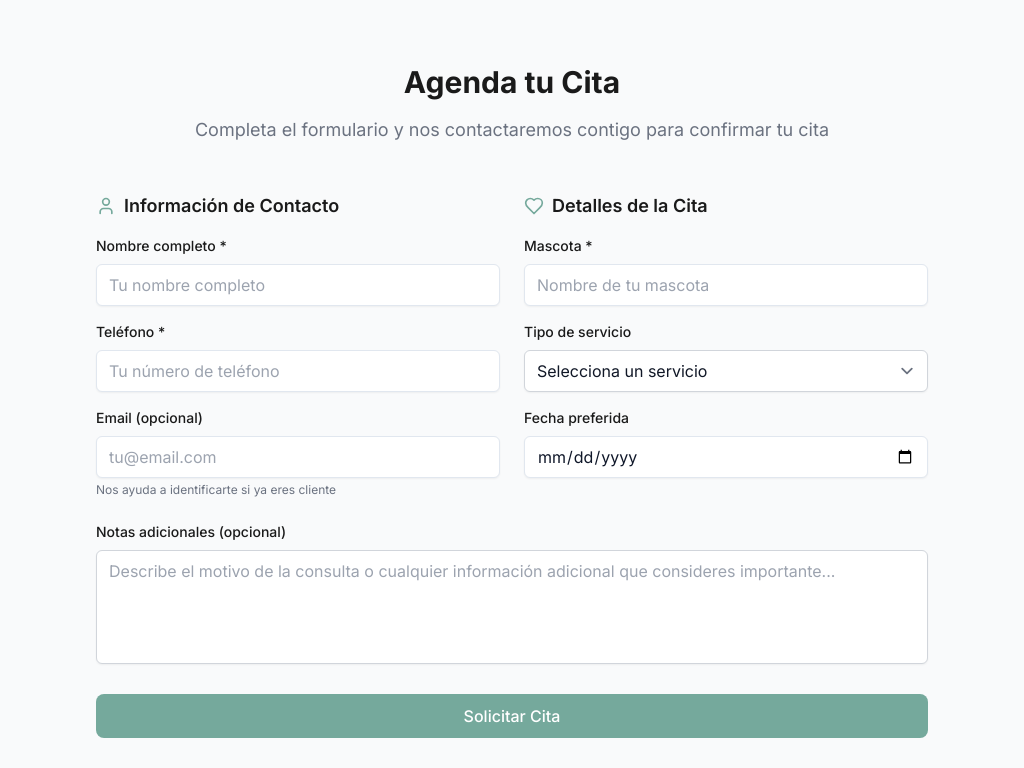
Test: QuickBooking › Success State › should show recognized customer message for existing customers
This screenshot has width=1024, height=768.
Type "Juan" into the field labelled "Nombre completo *". click: point(298, 285)
box: x1=96 y1=264 x2=500 y2=306
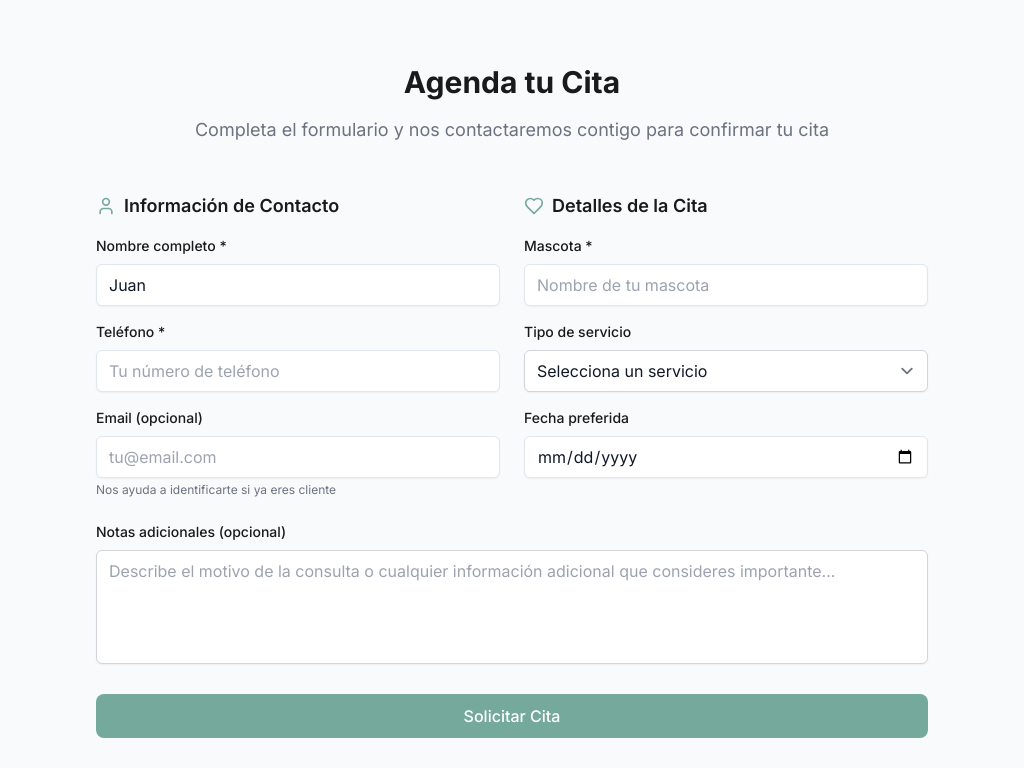
Type "5551234567" into the field labelled "Teléfono *". click: point(298, 371)
box: x1=96 y1=350 x2=500 y2=392
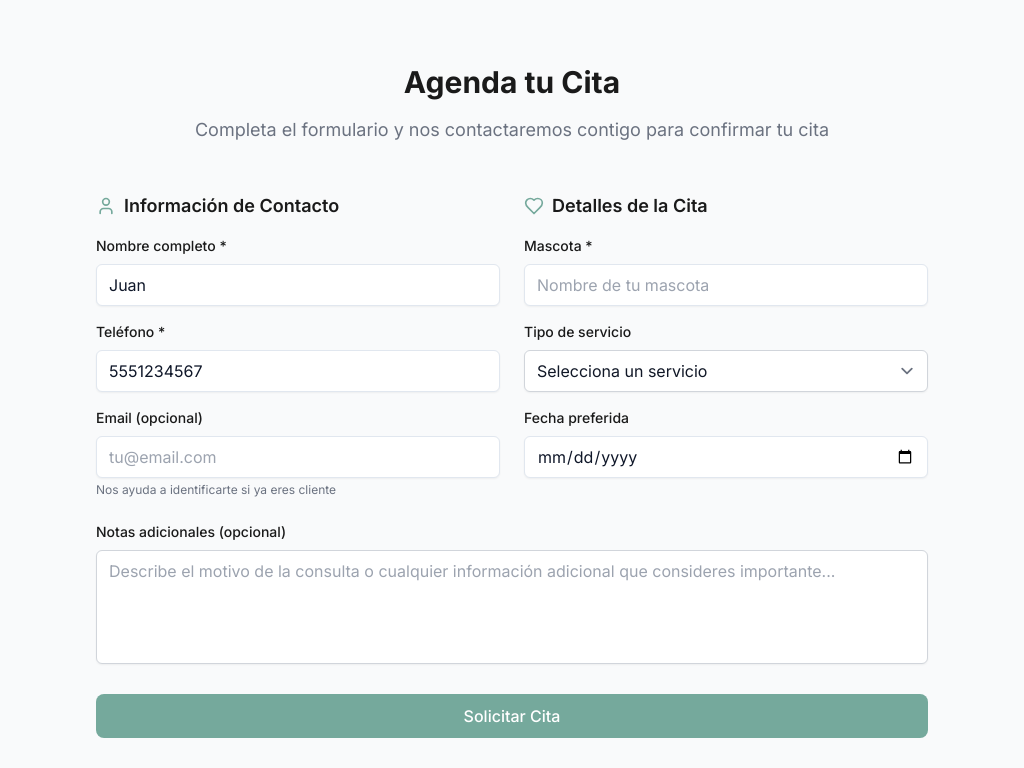
Type "Firulais" into the field with placeholder "Nombre de tu mascota". click: point(726, 285)
box: x1=524 y1=264 x2=928 y2=306
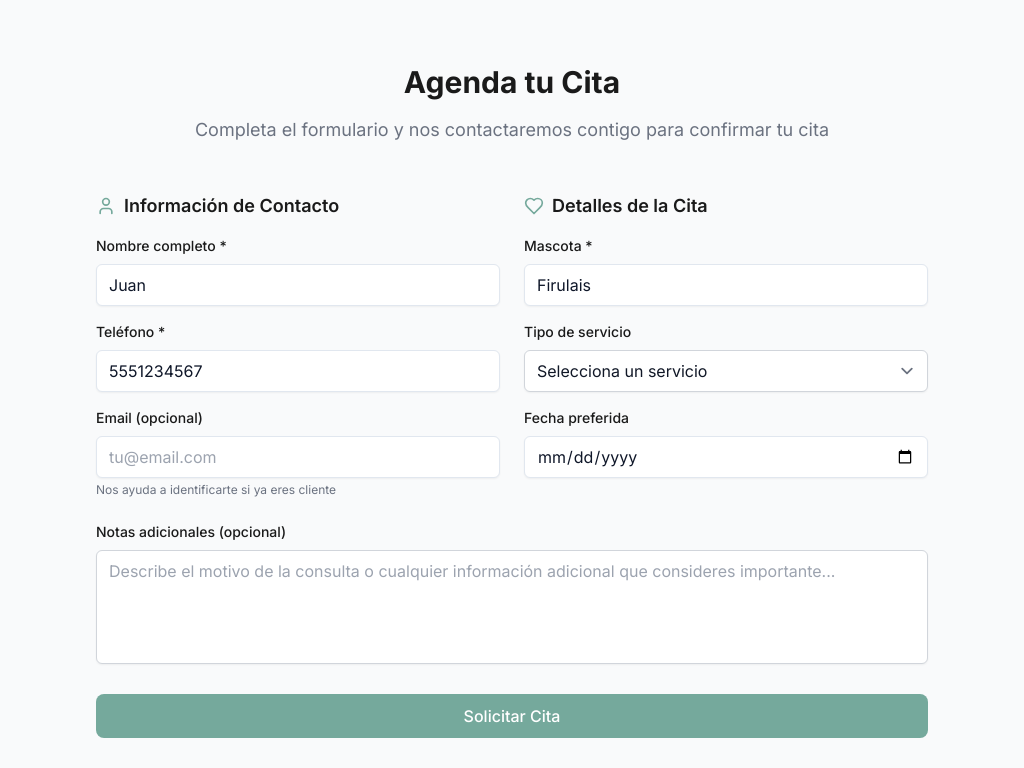
Click the button "Solicitar Cita". click: point(512, 716)
box: x1=96 y1=694 x2=928 y2=738
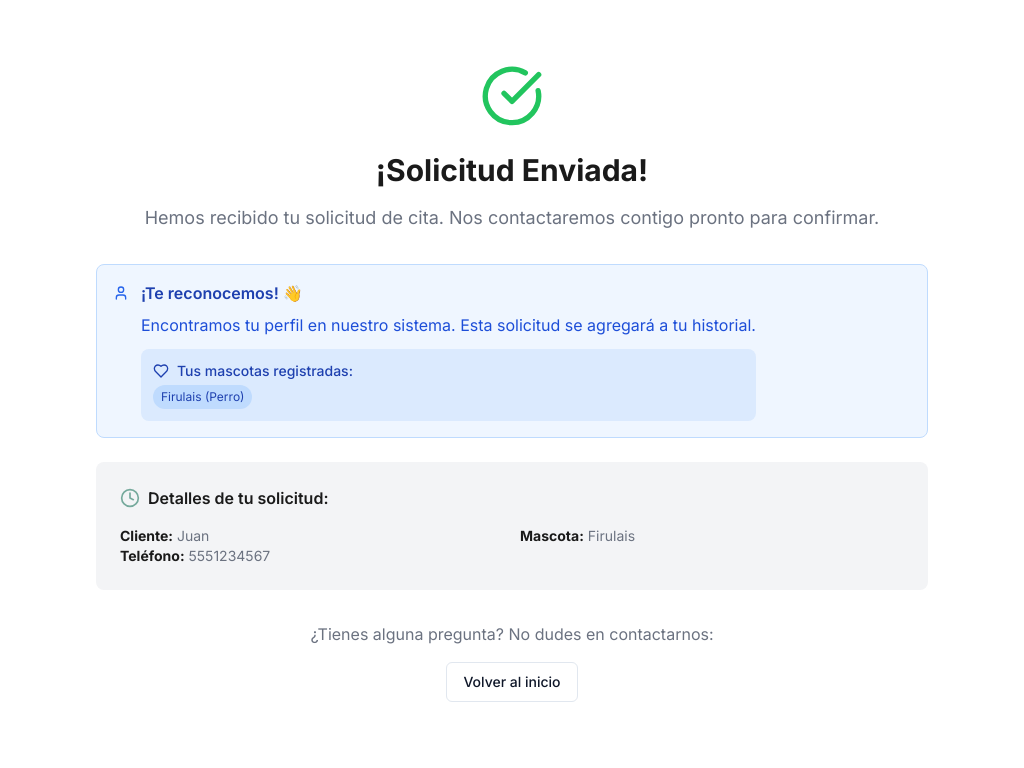
Now the text "¡Te reconocemos! 👋" is shown, box x1=141 y1=283 x2=303 y2=303
